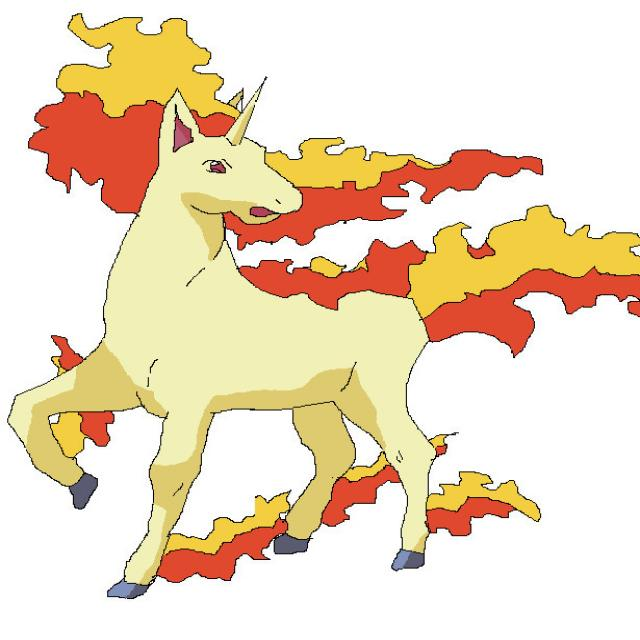Rapidash: (68, 91, 451, 564)
